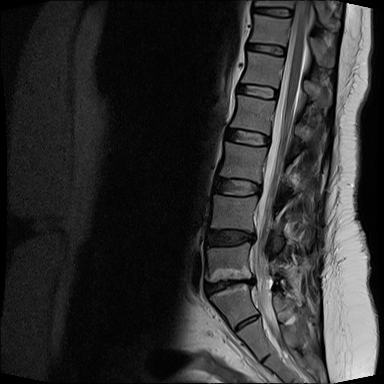Lumbar Disc Bulge (LDB): (195, 258, 266, 302), (200, 221, 273, 253)
Normal IVD: (215, 123, 272, 150), (210, 173, 266, 199), (230, 77, 280, 103), (239, 37, 289, 61), (248, 2, 295, 20)
Spinal Stenosis (SS): (236, 217, 265, 252), (235, 263, 261, 299)
